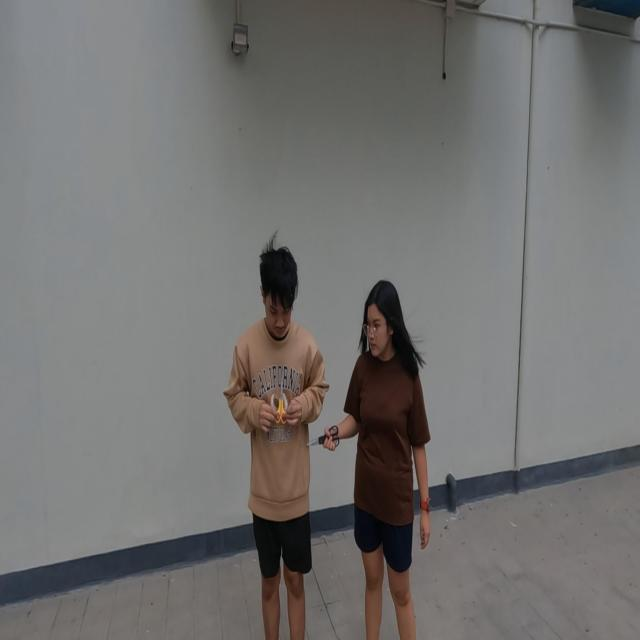scissor: (307, 424, 340, 450), (274, 374, 288, 425)
